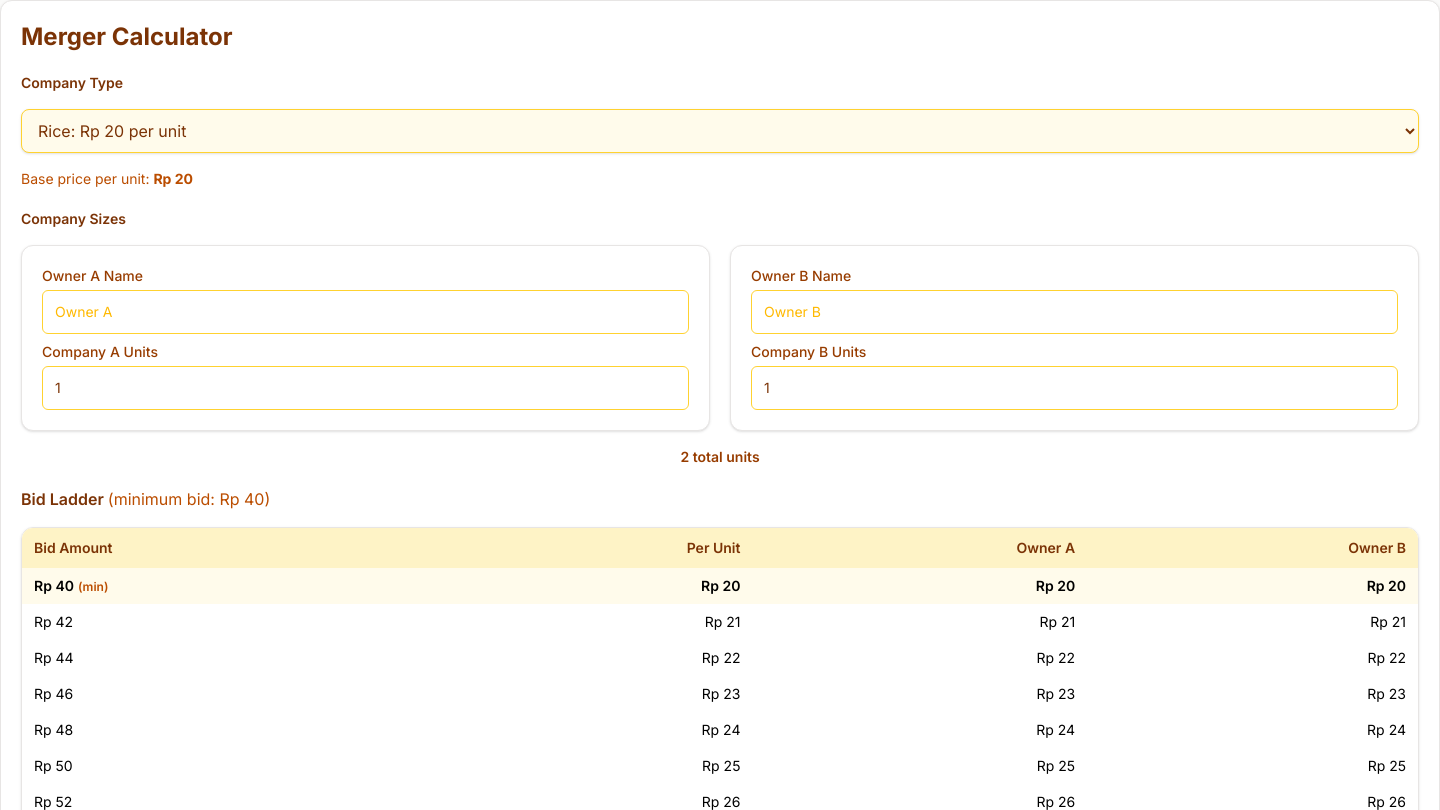
Test: MergerCalculator › size inputs › updates calculations when sizes change
Click the number field labelled "Company A Units": x=366, y=388 [42,366,689,410]
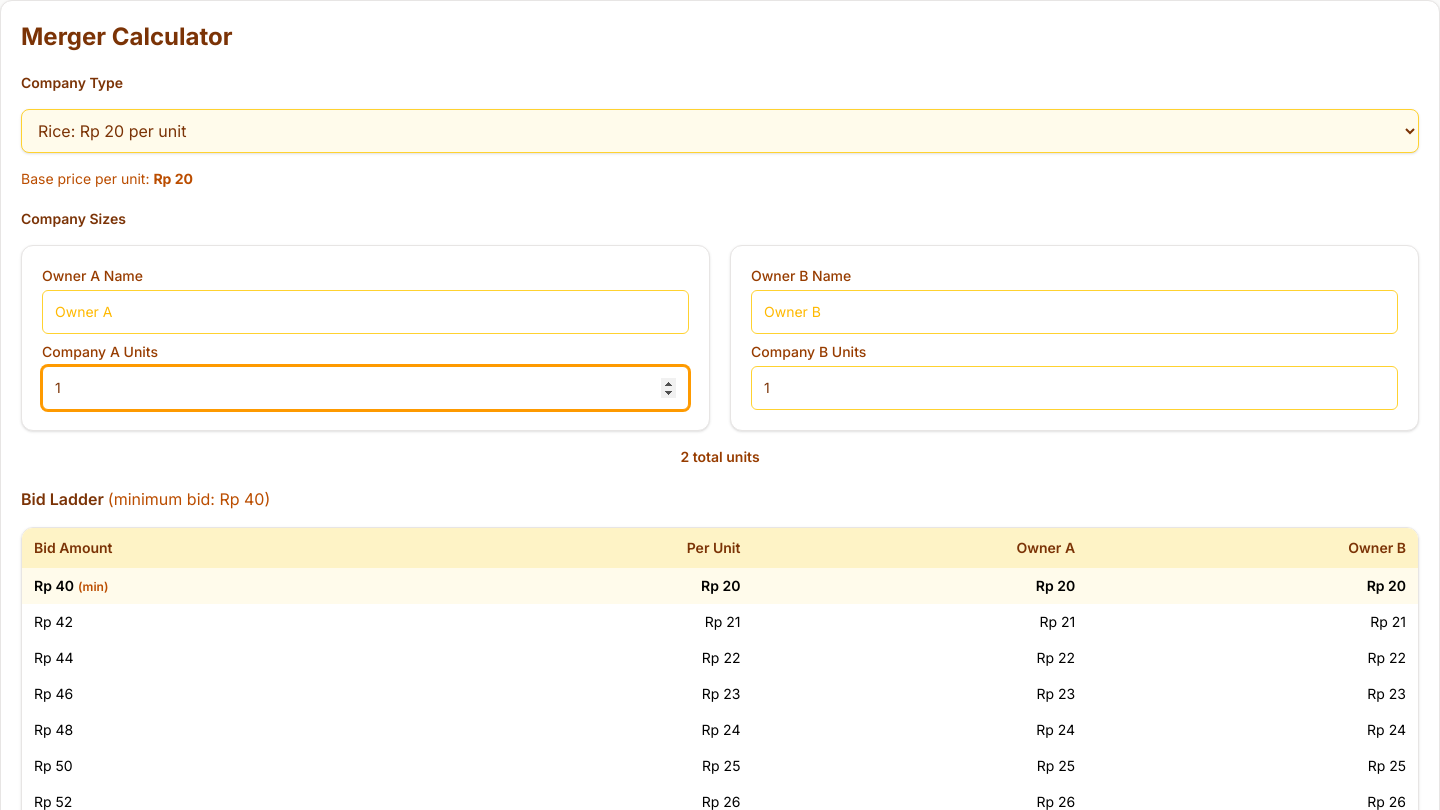
Type keys "3"
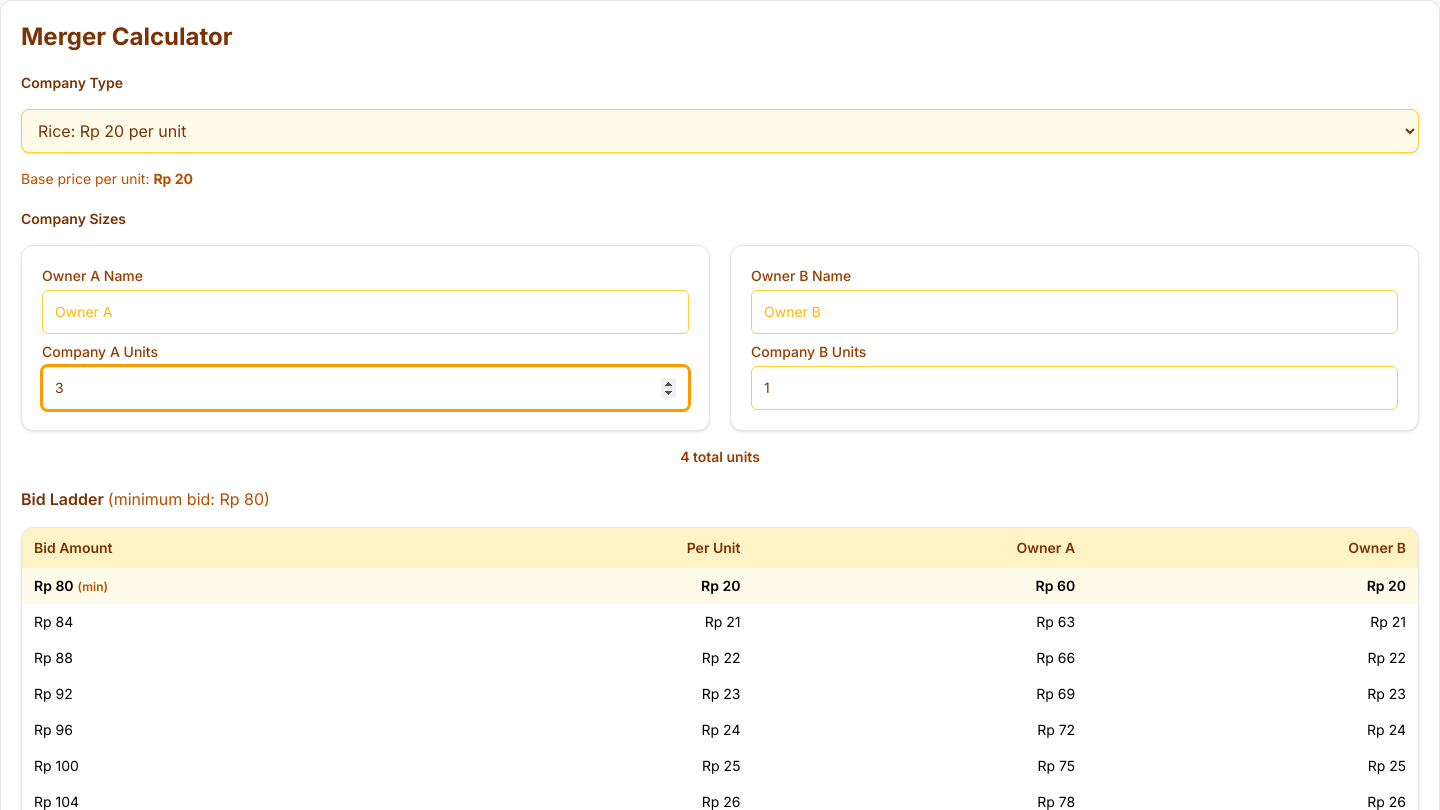
Click the number field labelled "Company B Units": x=1074, y=388 [751,366,1398,410]
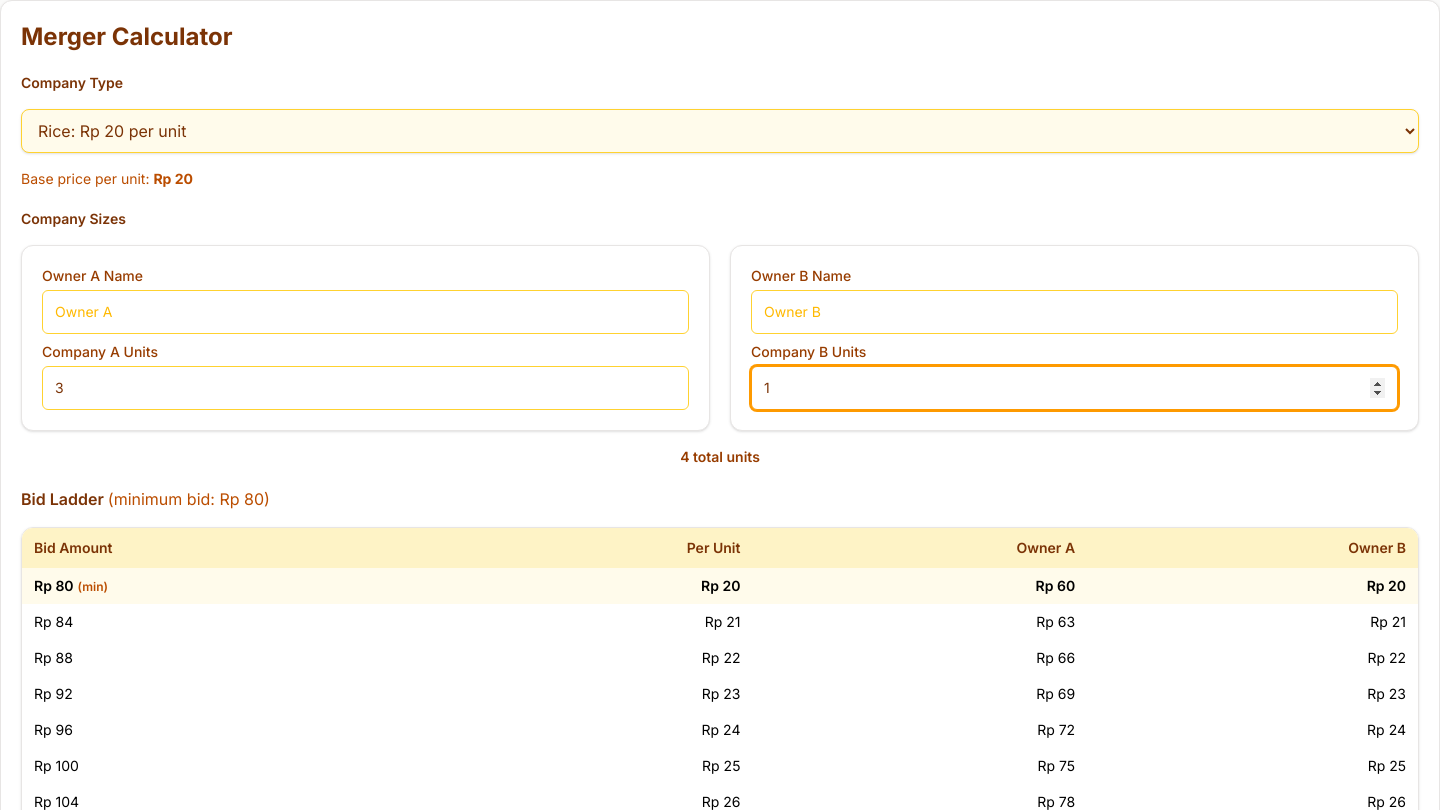
Type keys "2"
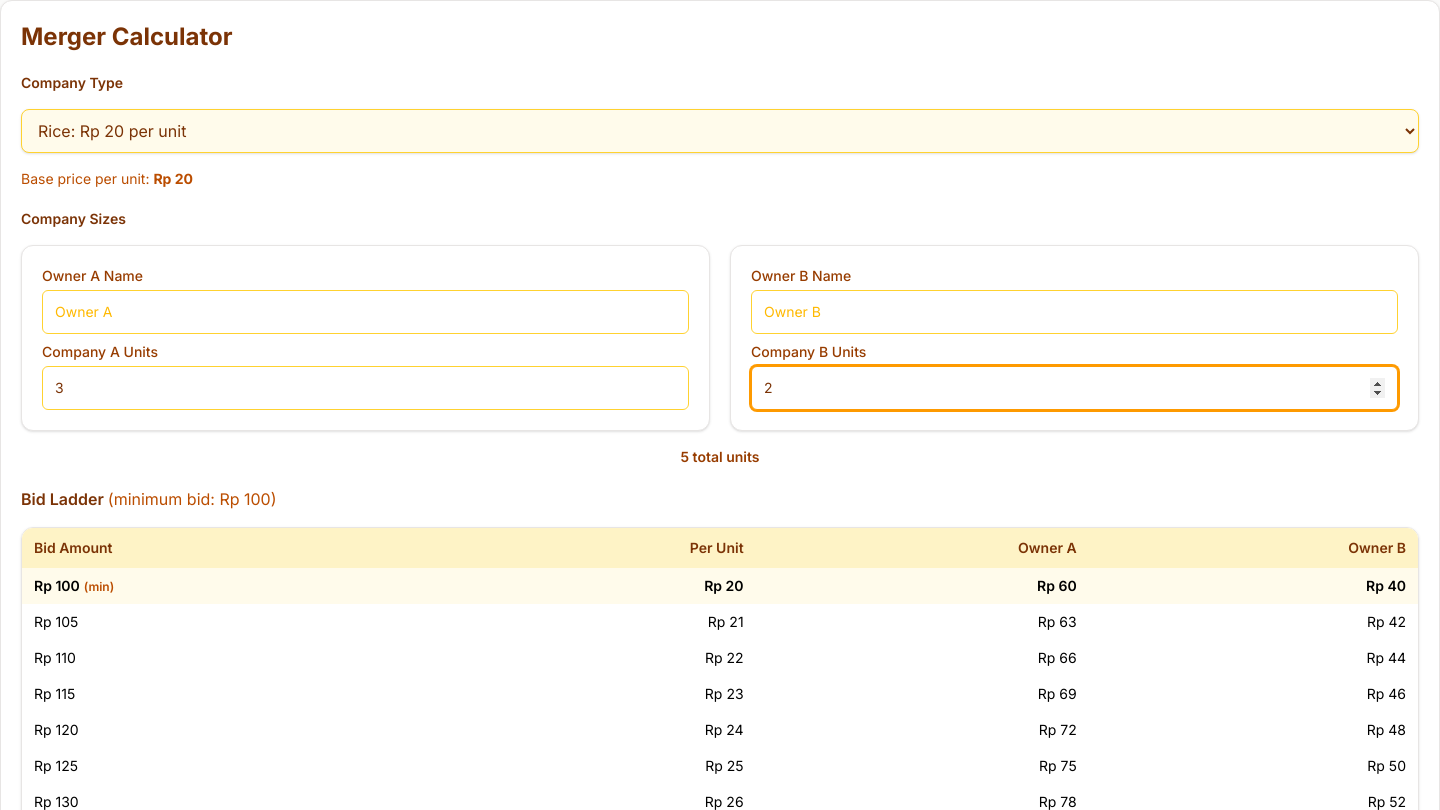
Now the number field labelled "Company A Units" holds "3", box [42,366,689,410]
Now the number field labelled "Company B Units" holds "2", box [751,366,1398,410]
Now the text "(minimum bid: Rp 100)" is shown, box [108,489,277,509]
